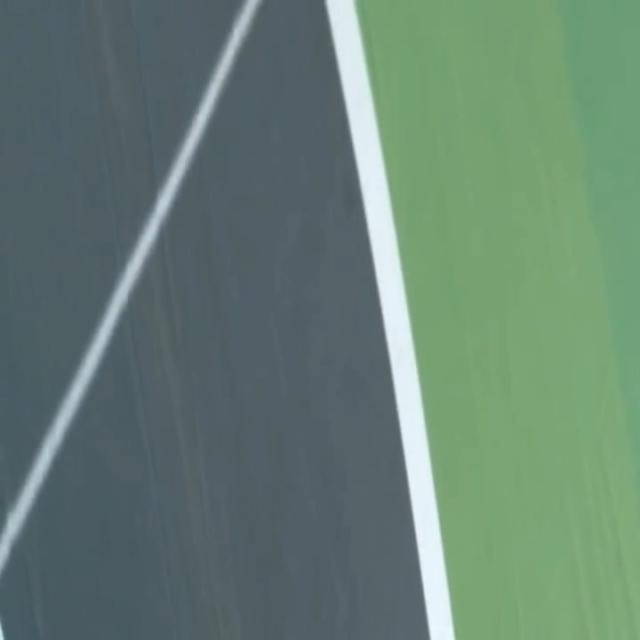right: (325, 0, 454, 639)
